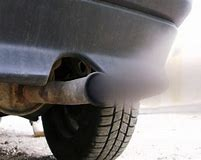smoke: (90, 52, 201, 107)
